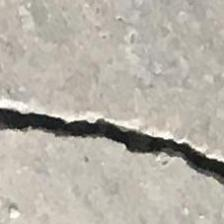Crack: (0, 91, 224, 188)
